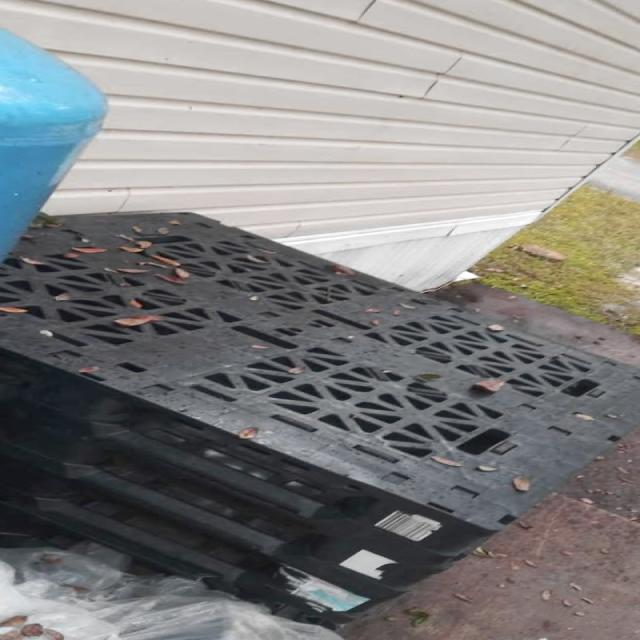igps: (0, 204, 640, 568)
